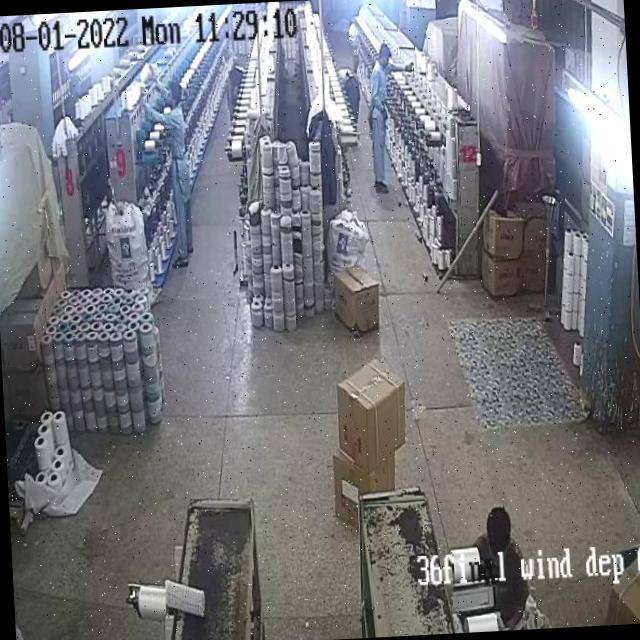person: (163, 86, 206, 256), (482, 506, 536, 622), (366, 38, 401, 177)
